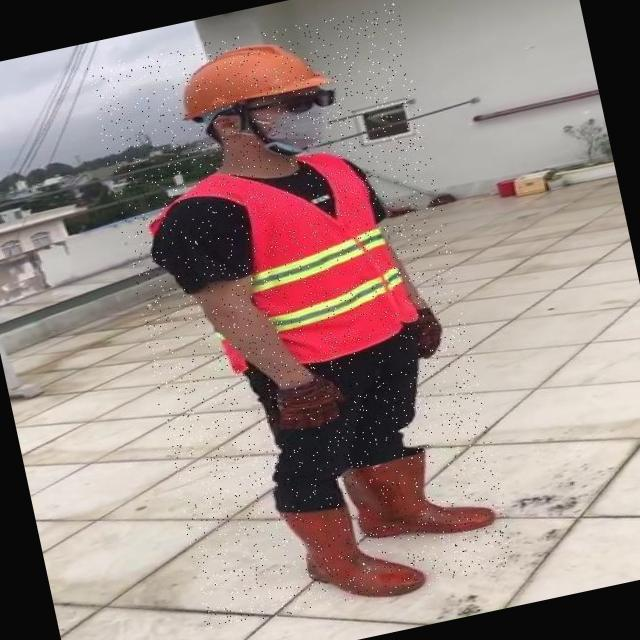boots: (275, 485, 426, 617), (339, 439, 496, 554)
gloves: (265, 370, 346, 436), (413, 306, 445, 356)
vest: (126, 142, 420, 390)
